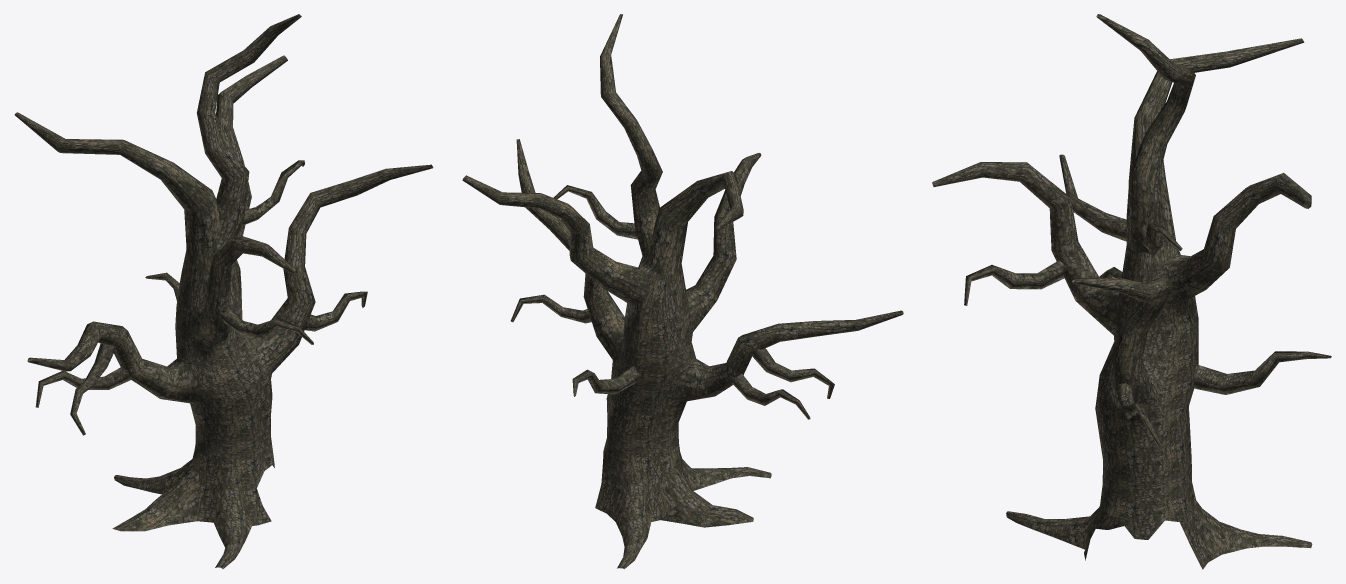
The model's file is EKH_ENTRANCE_PS_EN_TREE001__GX.fbx.
The picture shows the model from 3 angles, left to right: view 1: azimuth 30°, elevation 25°; view 2: azimuth 150°, elevation 25°; view 3: azimuth 270°, elevation 25°; orthographic projection. The views are drawn at different scales.
Parts seen in each view (by area): view 1: EKH_ENTRANCE_PS_EN_TREE001__GX; view 2: EKH_ENTRANCE_PS_EN_TREE001__GX; view 3: EKH_ENTRANCE_PS_EN_TREE001__GX.
Boxes of the visible parts, <box> form: EKH_ENTRANCE_PS_EN_TREE001__GX: <box>14,14,433,568</box>; EKH_ENTRANCE_PS_EN_TREE001__GX: <box>462,14,903,569</box>; EKH_ENTRANCE_PS_EN_TREE001__GX: <box>932,14,1331,569</box>.
Size of the model in its own units: 261225 by 309845 by 192619.
Materials: 3 (3 with a texture image).
